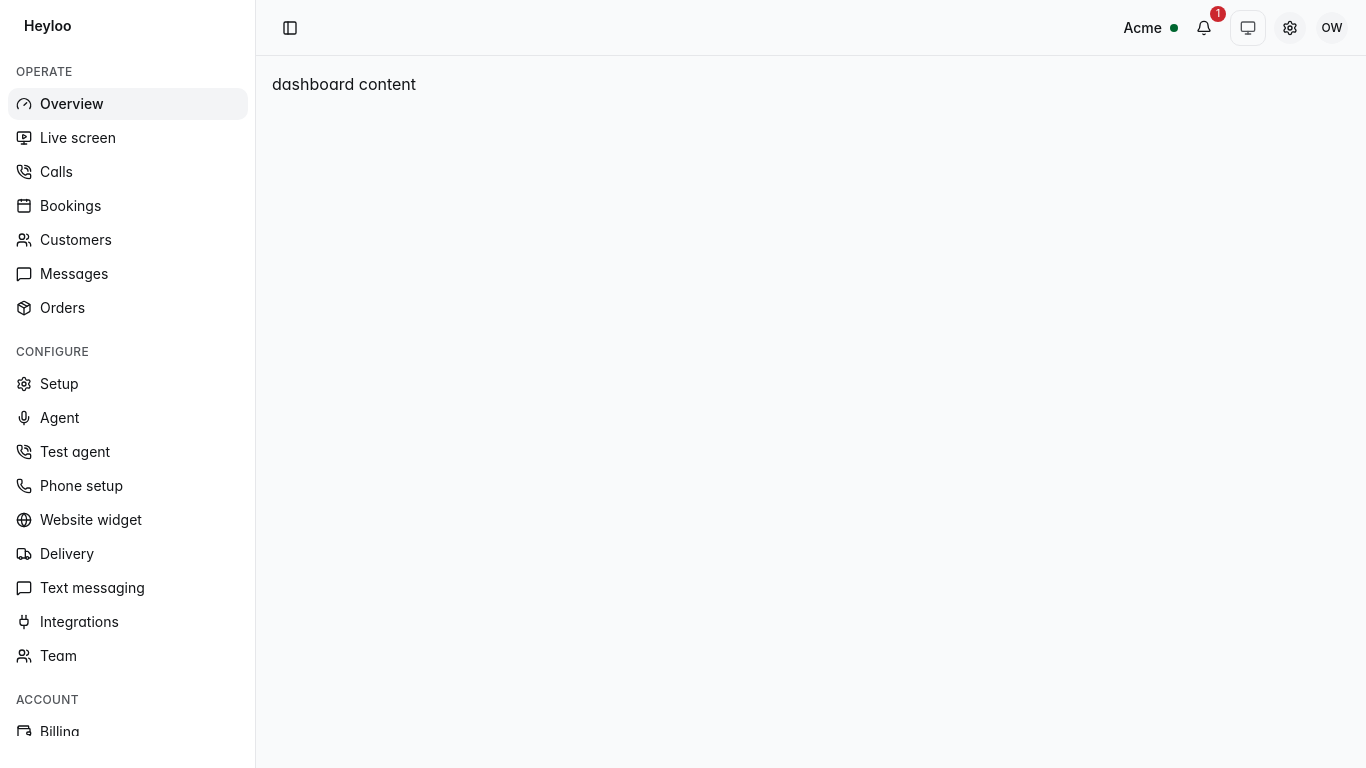
TenantShellClient — notification bell (QA-1 F-04) › marks notifications read when the bell opens and opens the item's target when clicked
The width and height of the screenshot is (1366, 768).
Click the button named "notifications": point(1204, 28) [1186,10,1222,46]
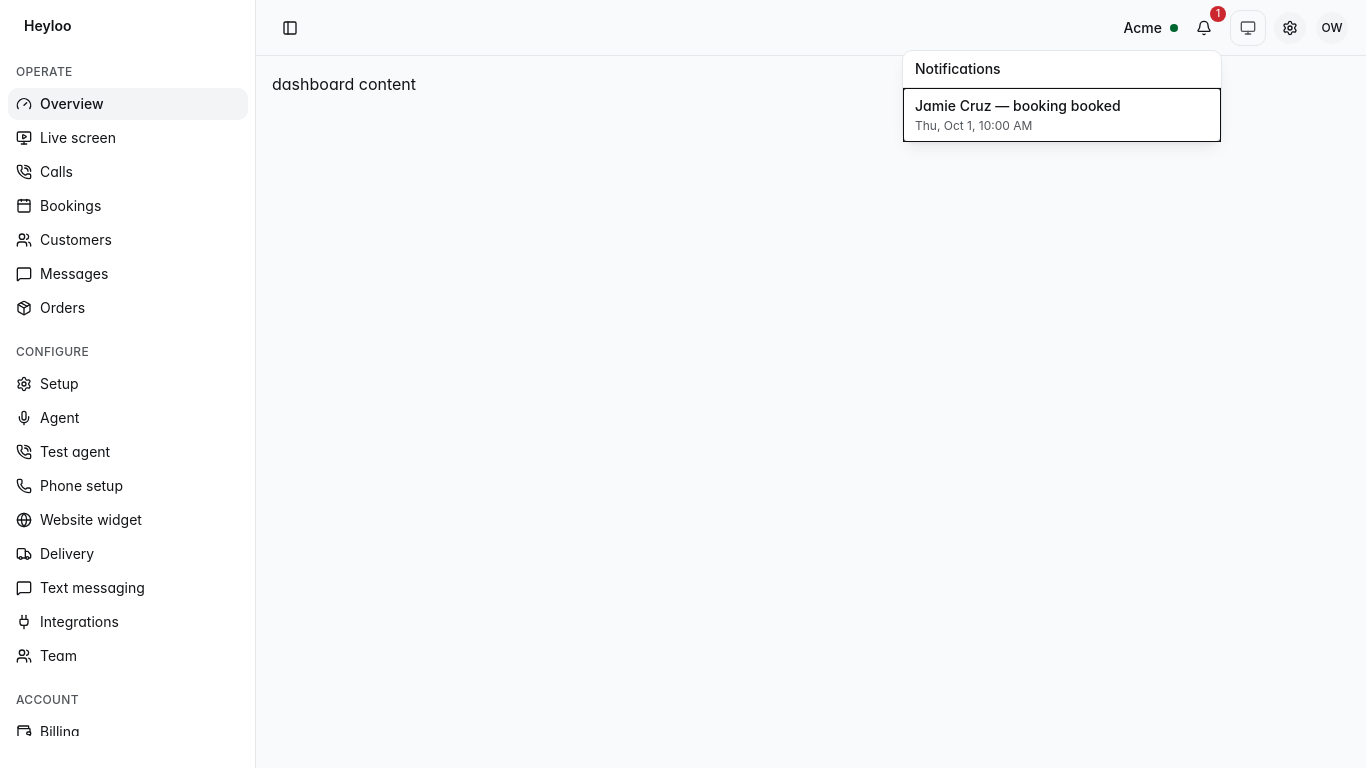
Click the text "Jamie Cruz — booking booked": point(1018, 106) [915,96,1121,116]
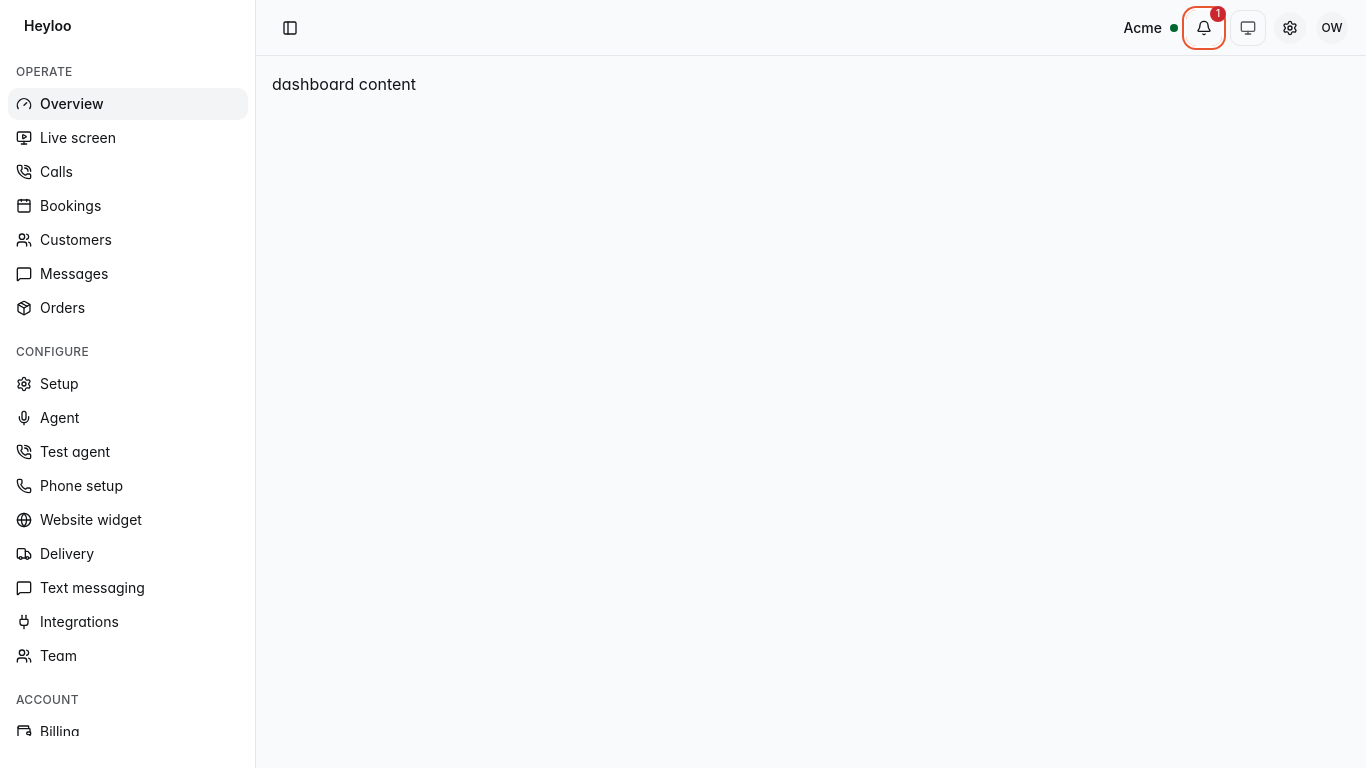
Expected: the button "Jamie Cruz — booking booked" is gone
